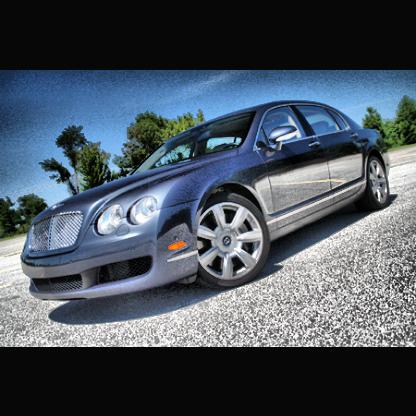Bentley Continental Flying Spur Sedan 2007: (21, 97, 392, 305)
